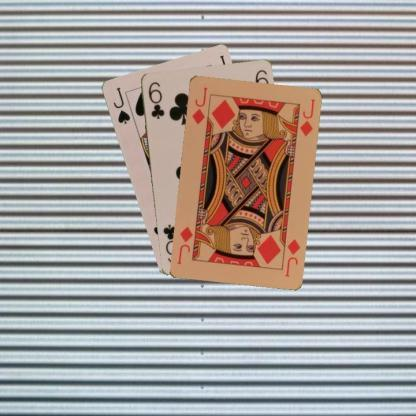6c: (146, 78, 166, 119)
Jd: (189, 84, 209, 126), (283, 236, 301, 278)
Js: (110, 84, 132, 126)
